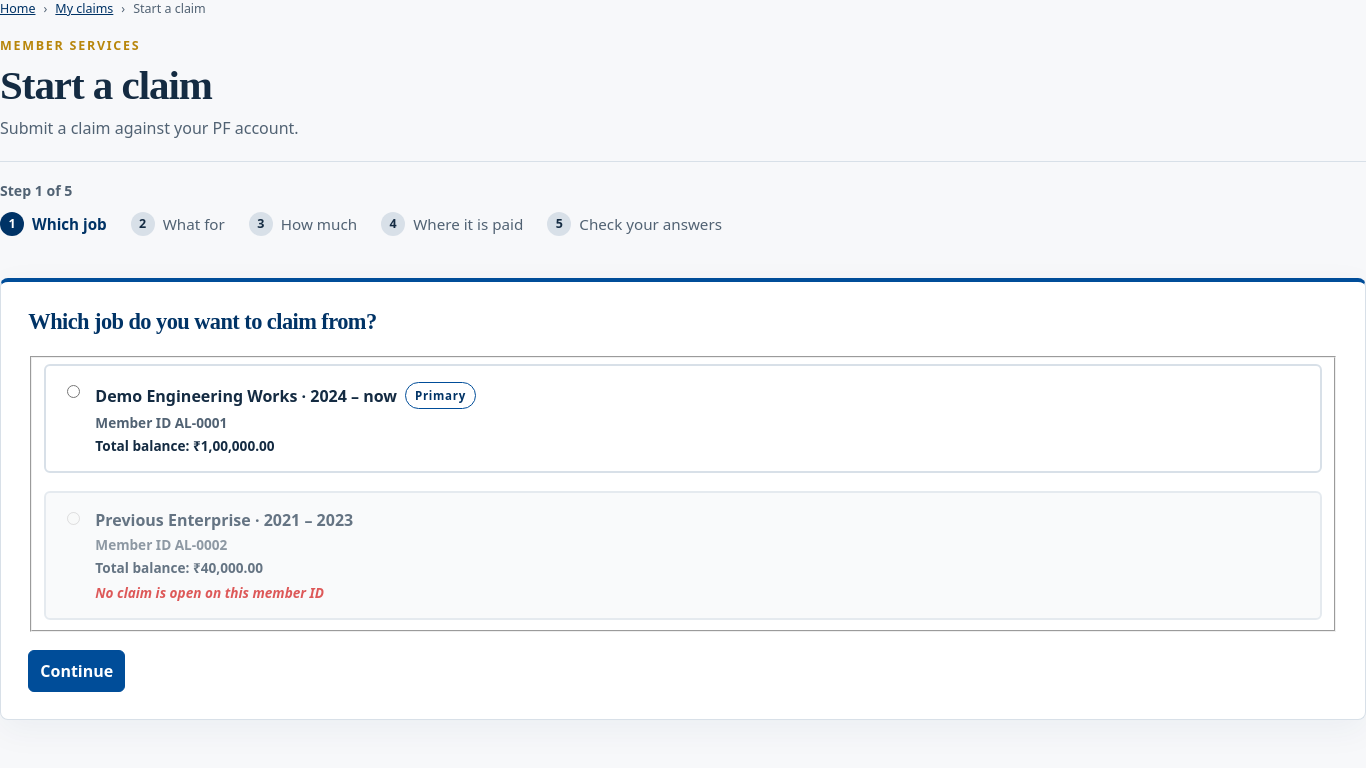
Test case: P2.28 ClaimJourneyPage › blocks Continue and shows KYC link when bank is unverified
Note: Select job and continue
Click the radio button labelled "Demo Engineering Works": (74, 392) [67, 385, 80, 398]
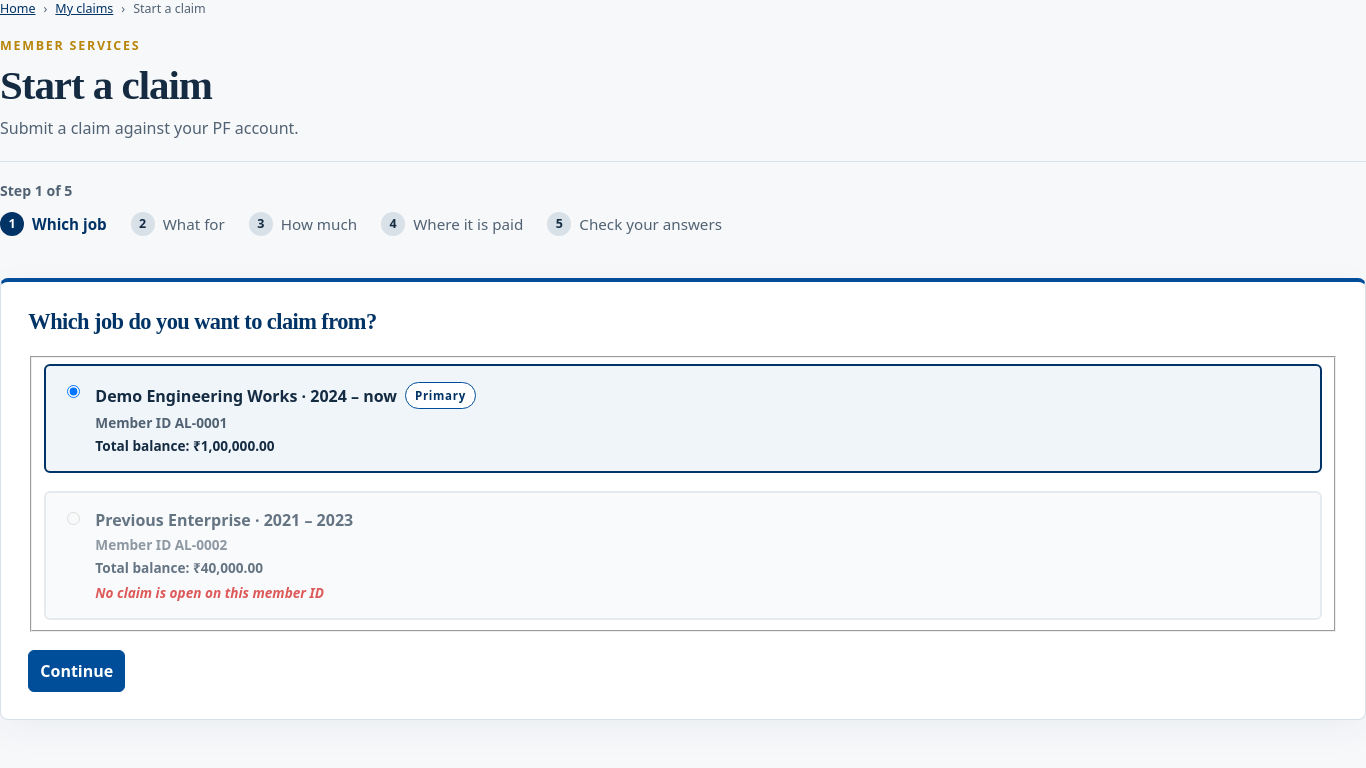
Click the button "Continue": (77, 671) [28, 650, 125, 692]
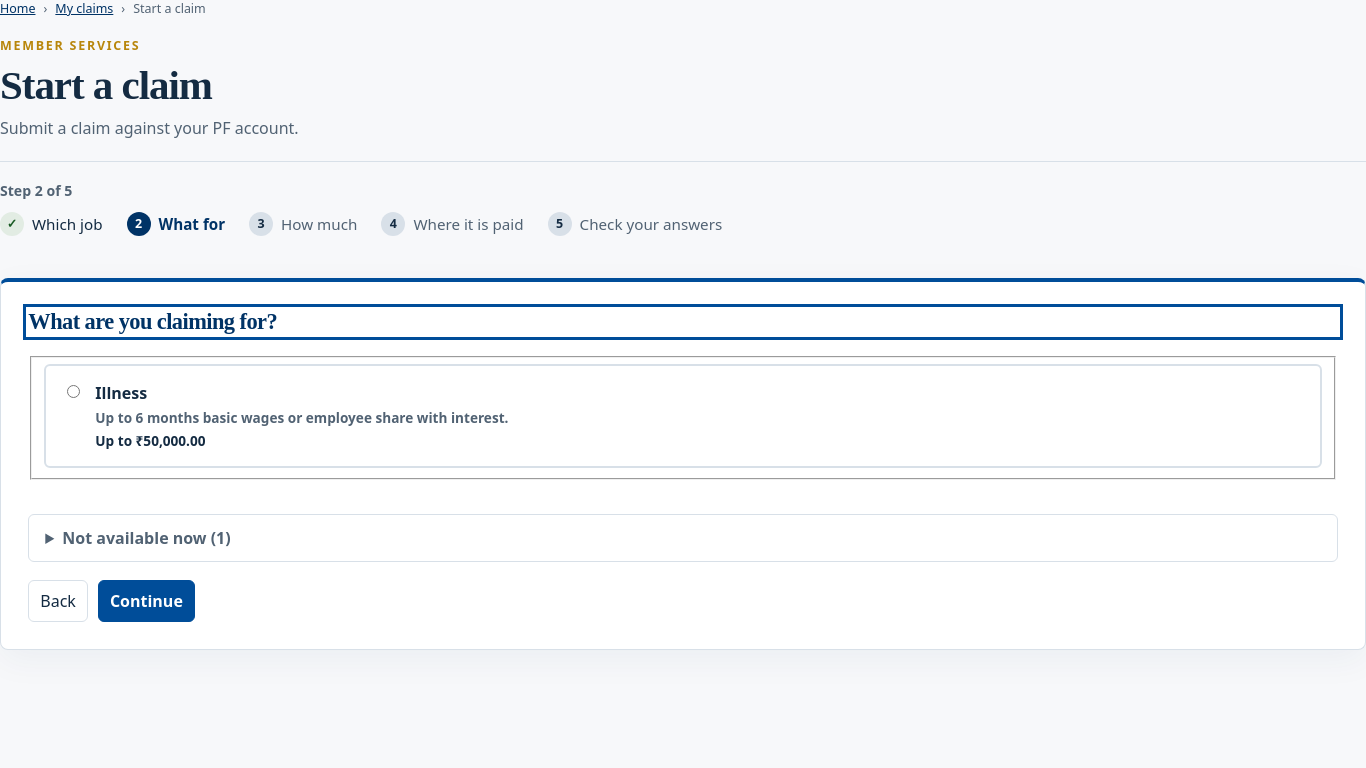
Note: Select claim and continue
Click the radio button labelled "Illness": (74, 392) [67, 385, 80, 398]
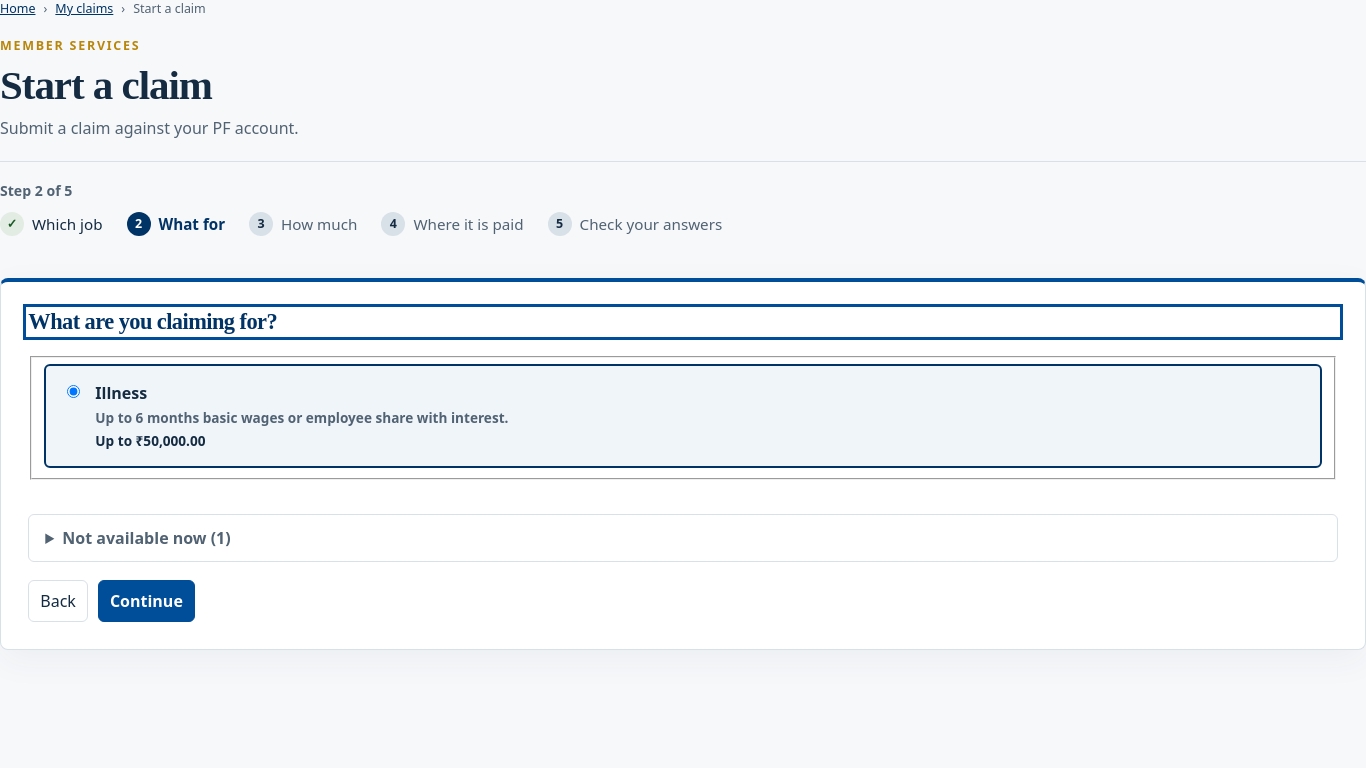
Click the button "Continue": (146, 601) [98, 580, 195, 622]
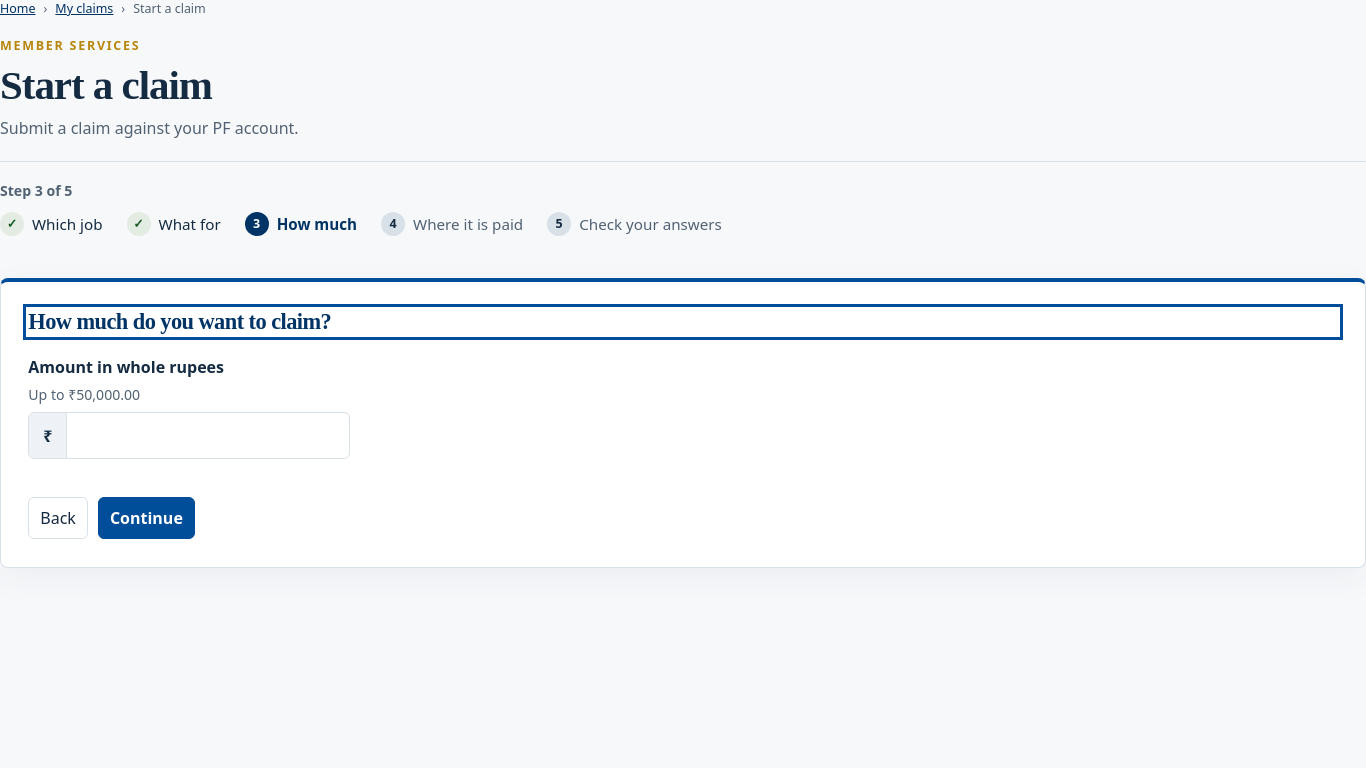
Note: Enter valid amount and continue
In the field labelled "Amount in whole rupees": (208, 436) [68, 413, 349, 458], type "10000"
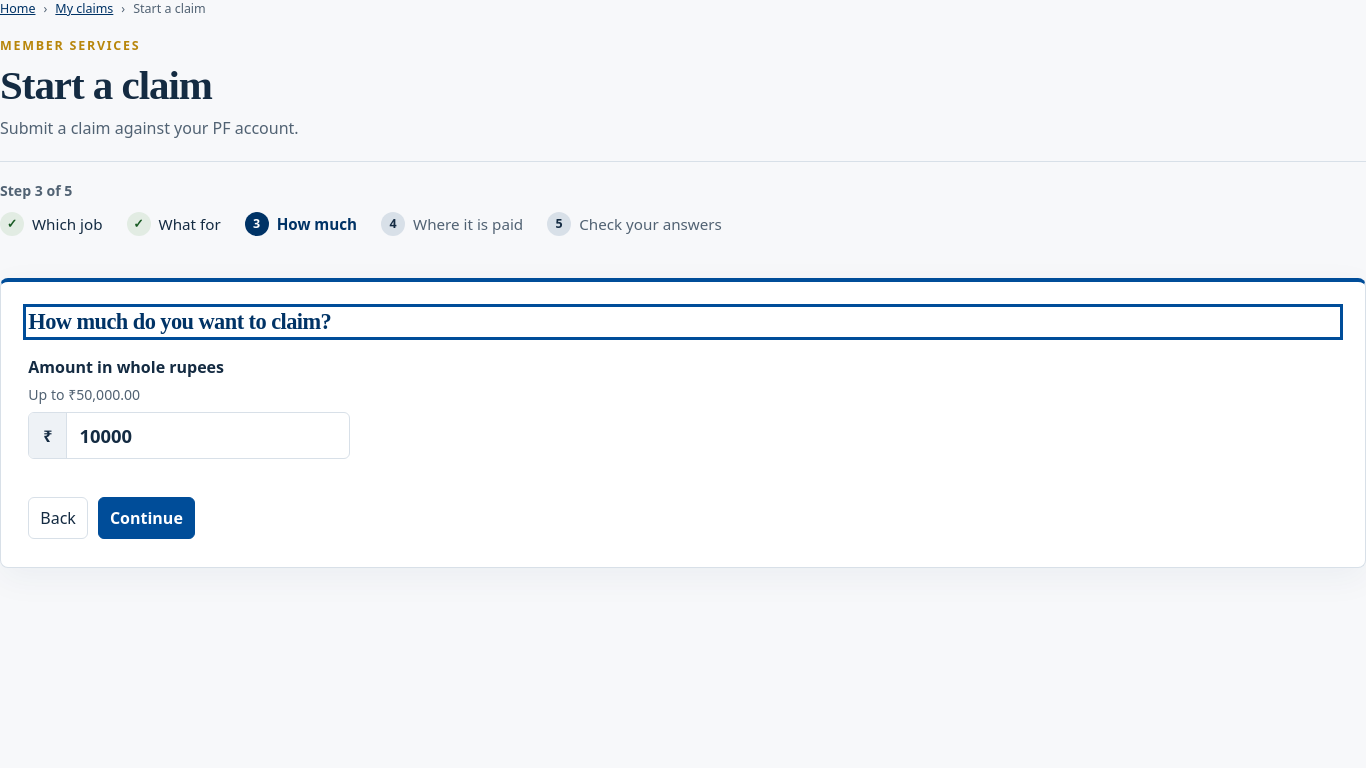
Click the button "Continue": (146, 518) [98, 497, 195, 539]
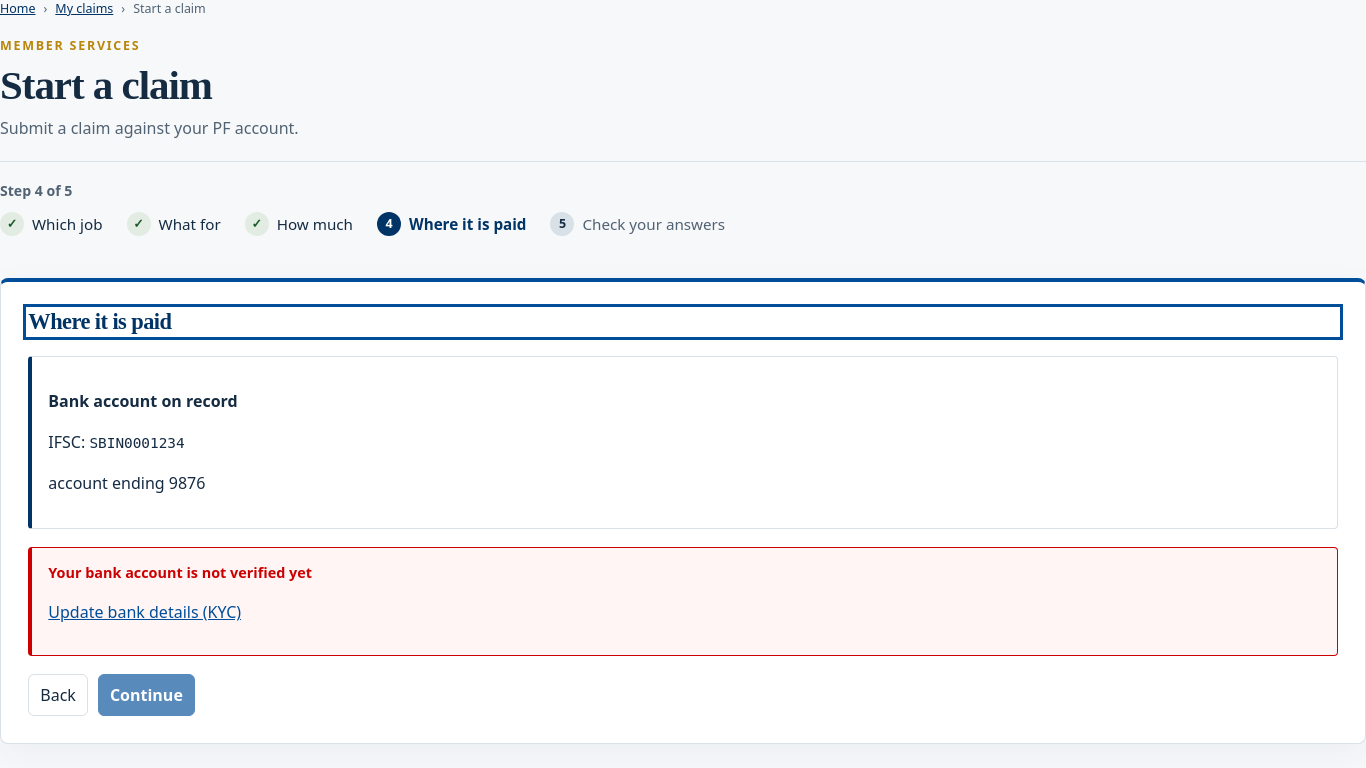
Now the heading "Where it is paid" is shown, box [28, 309, 171, 334]
Now the text "Your bank account is not verified yet" is shown, box [48, 563, 312, 582]
Now the link "Update bank details (KYC)" is shown, box [48, 601, 241, 623]
